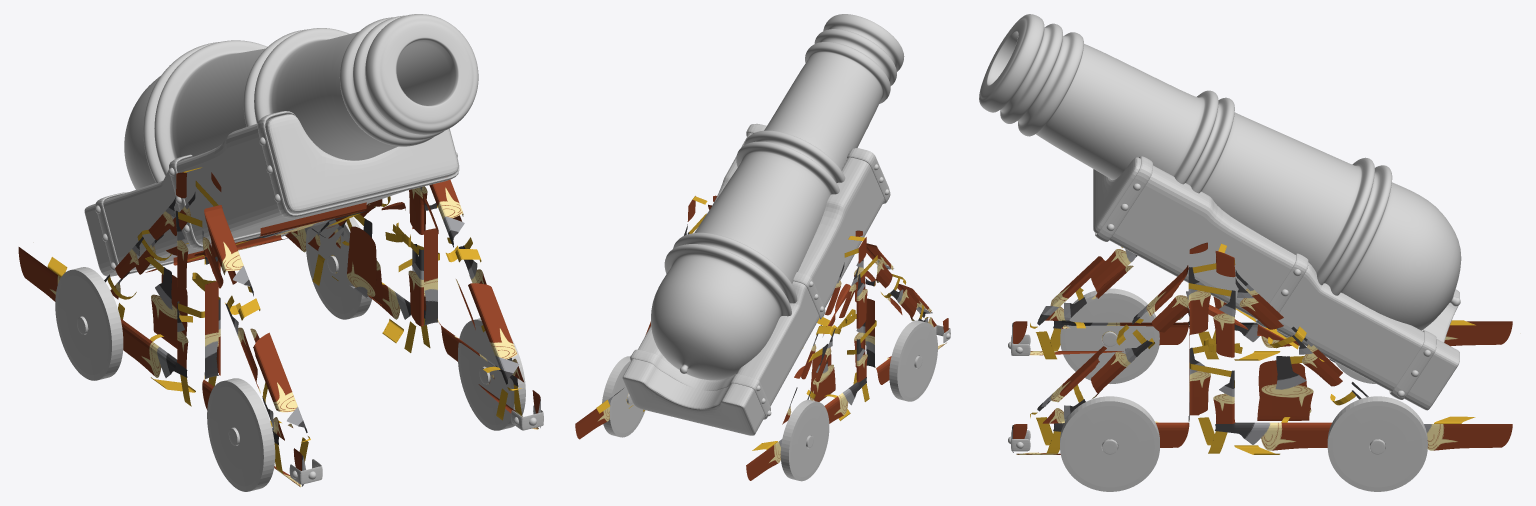
The model's file is HeavyEra2.fbx.
3 renders of one model, left to right at view 1: azimuth 30°, elevation 25°; view 2: azimuth 150°, elevation 25°; view 3: azimuth 270°, elevation 25°, orthographic. The views are drawn at different scales.
Parts seen in each view (by area): view 1: Cylinder, WoodenArmature, Plane.001, Circle, Circle.001, Plane.003; view 2: Cylinder, Plane.001, WoodenArmature, Circle.001, Circle; view 3: Cylinder, WoodenArmature, Plane.001, Circle, Circle.001.
Boxes of the visible parts, x1,y1,x2,y2 form: Cylinder: (124, 14, 478, 189); WoodenArmature: (18, 167, 540, 487); Plane.001: (84, 111, 459, 276); Circle: (207, 318, 525, 491); Circle.001: (55, 217, 371, 380); Plane.003: (289, 405, 543, 484); Cylinder: (651, 14, 904, 380); Plane.001: (622, 123, 890, 435); WoodenArmature: (575, 195, 948, 480); Circle.001: (602, 356, 829, 481); Circle: (889, 320, 937, 401); Cylinder: (979, 14, 1461, 330); WoodenArmature: (1012, 242, 1512, 454); Plane.001: (1093, 156, 1459, 410); Circle: (1060, 288, 1159, 491); Circle.001: (1327, 362, 1427, 491).
Bounding box in the file's own units: 403 × 681 × 805.
